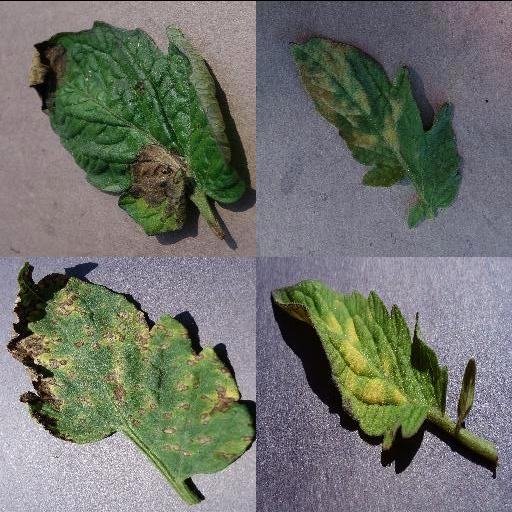Late Blight: (29, 19, 247, 235)
Leaf Mold: (285, 37, 463, 225), (270, 278, 450, 449)
Septoria: (6, 261, 255, 477)
